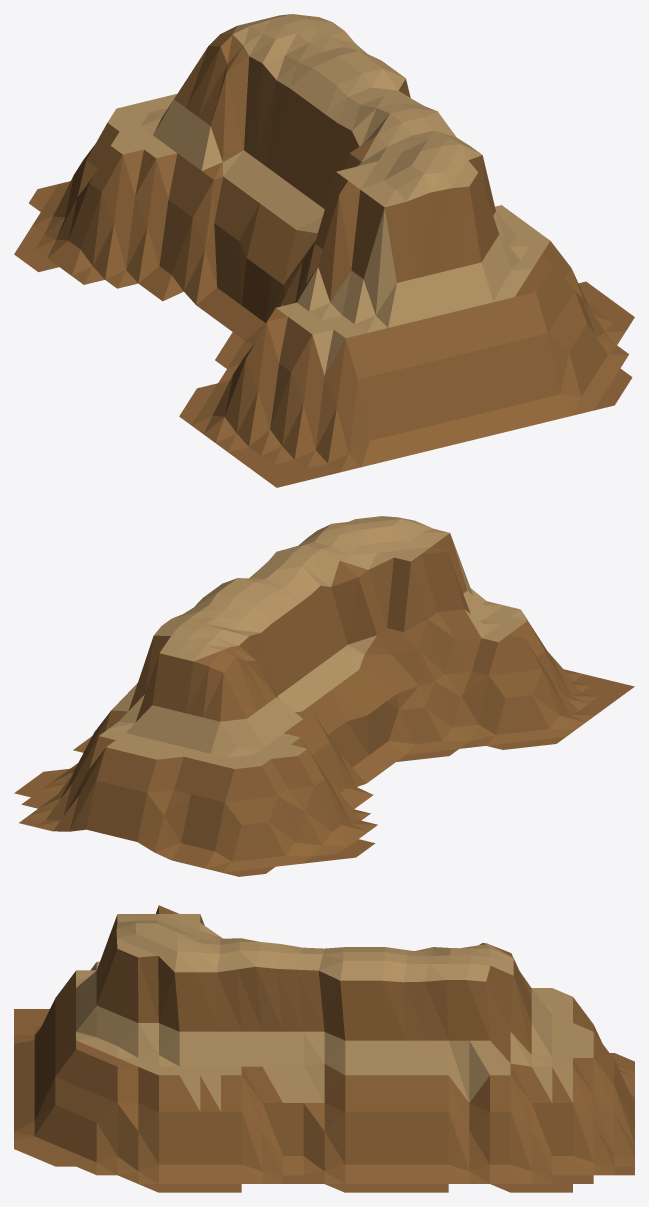
Rendered from Mountain1.fbx.
3 views of the same model, one above another, from view 1: azimuth 30°, elevation 25°; view 2: azimuth 150°, elevation 25°; view 3: azimuth 270°, elevation 25° (orthographic). The views are drawn at different scales.
Visible parts, largest first — view 1: Mountain; view 2: Mountain; view 3: Mountain.
Part boxes in pixels (box(x1,y1,x2,y2)): Mountain: box(14, 14, 634, 487); Mountain: box(14, 516, 634, 876); Mountain: box(14, 905, 634, 1192).
Bounding box in the file's own units: 3938 × 1762 × 5625.
